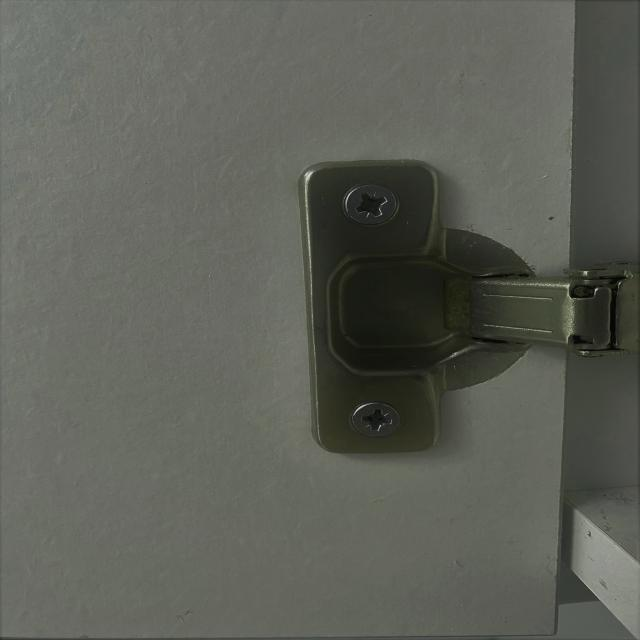PhillipsScrewHead: (344, 183, 398, 226), (351, 400, 402, 440)
